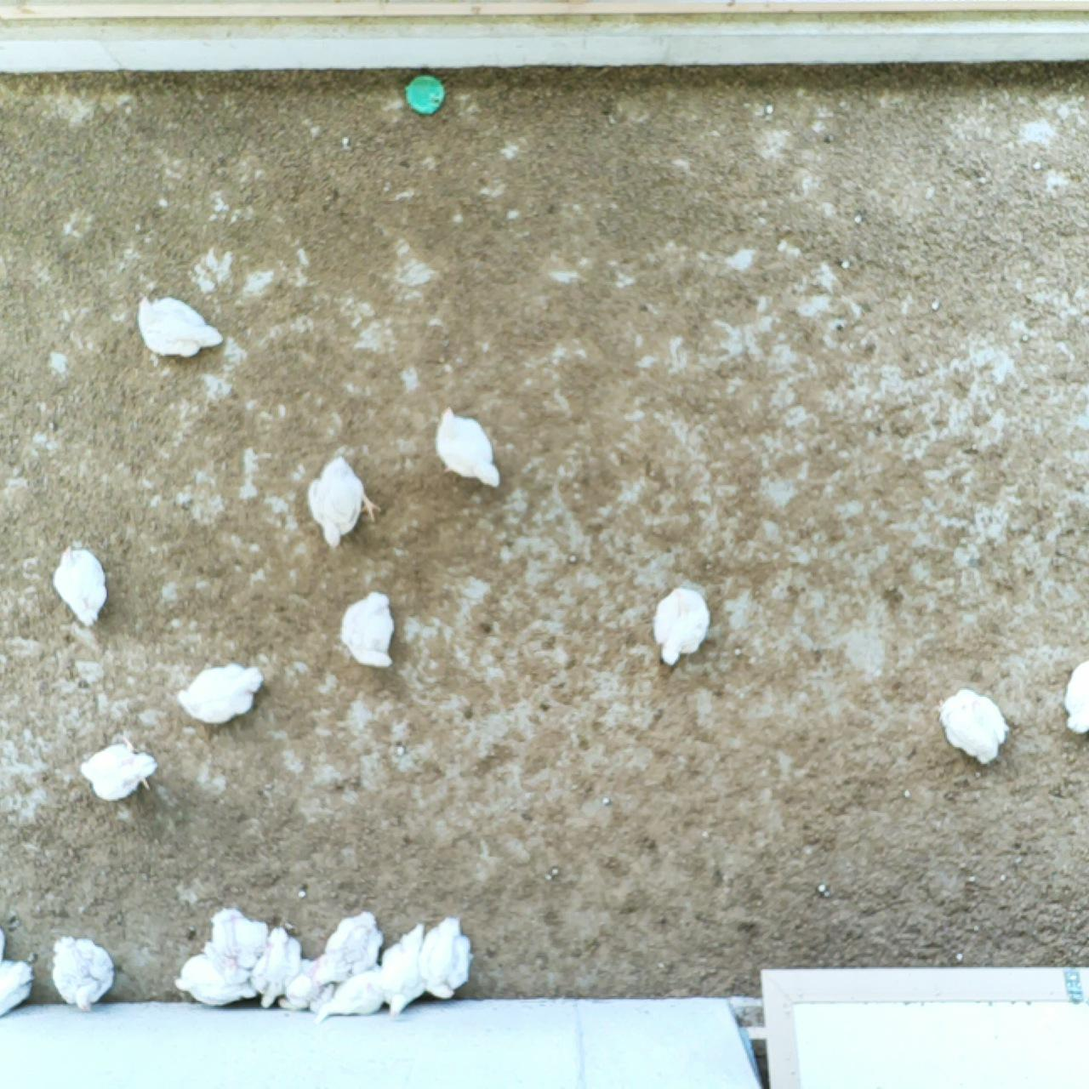chicken: (303, 450, 387, 553), (931, 683, 1013, 768), (131, 290, 227, 361), (434, 403, 506, 492), (76, 733, 162, 804), (174, 660, 265, 726), (312, 909, 385, 990), (648, 581, 712, 668), (49, 542, 113, 627), (378, 918, 430, 1020), (336, 588, 398, 673), (51, 935, 118, 1012), (419, 915, 476, 1002), (249, 925, 302, 1012), (311, 967, 389, 1026), (203, 906, 264, 973), (178, 953, 255, 1005), (276, 957, 336, 1014), (1055, 655, 1089, 739), (0, 956, 38, 1020)
